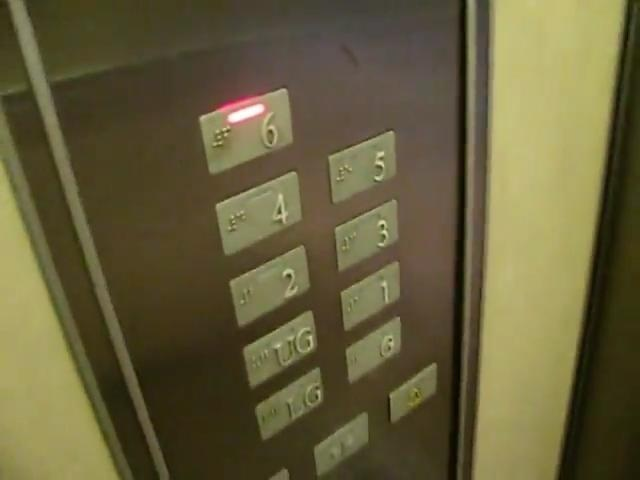1: (339, 260, 403, 332)
2: (228, 244, 312, 329)
3: (334, 199, 400, 273)
4: (214, 170, 303, 255)
5: (328, 130, 398, 205)
6: (199, 87, 295, 176)
G: (345, 316, 402, 382)
LG: (253, 368, 325, 443)
UG: (242, 311, 319, 390)
alarm: (387, 361, 440, 423)
blur: (314, 411, 371, 479)
